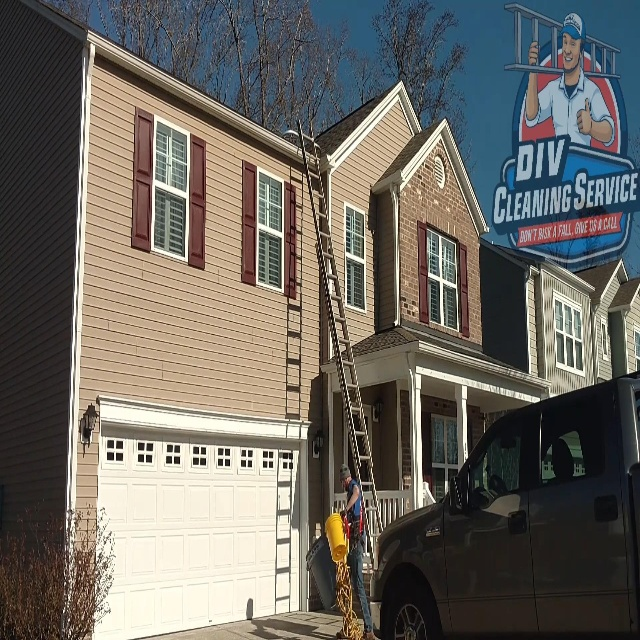Arnes_seguridad: (343, 481, 369, 554)
